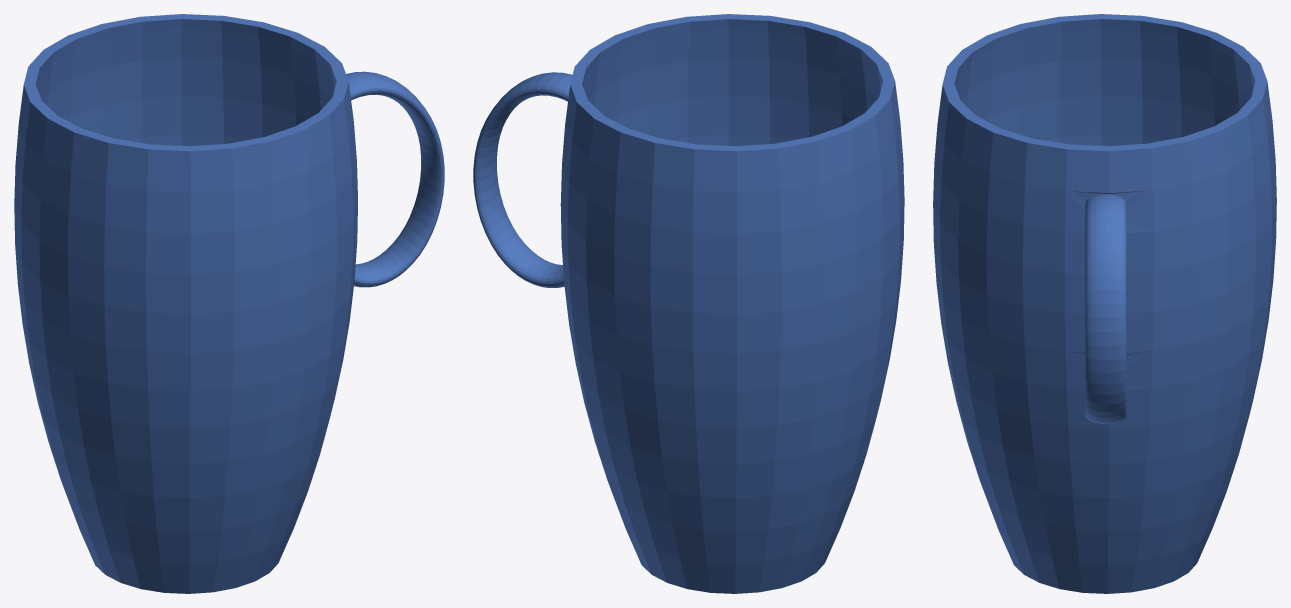
3 renders of one model, left to right at view 1: azimuth 30°, elevation 25°; view 2: azimuth 150°, elevation 25°; view 3: azimuth 270°, elevation 25°, orthographic.
Parts seen in each view (by area): view 1: mesh1_mesh1-geometry; view 2: mesh1_mesh1-geometry; view 3: mesh1_mesh1-geometry.
Part boxes in pixels (x1,y1,x2,y2): mesh1_mesh1-geometry: [14, 14, 444, 593]; mesh1_mesh1-geometry: [473, 14, 904, 593]; mesh1_mesh1-geometry: [933, 14, 1276, 593].
Bounding box in the file's own units: 0.5971 × 0.6691 × 0.4424.
